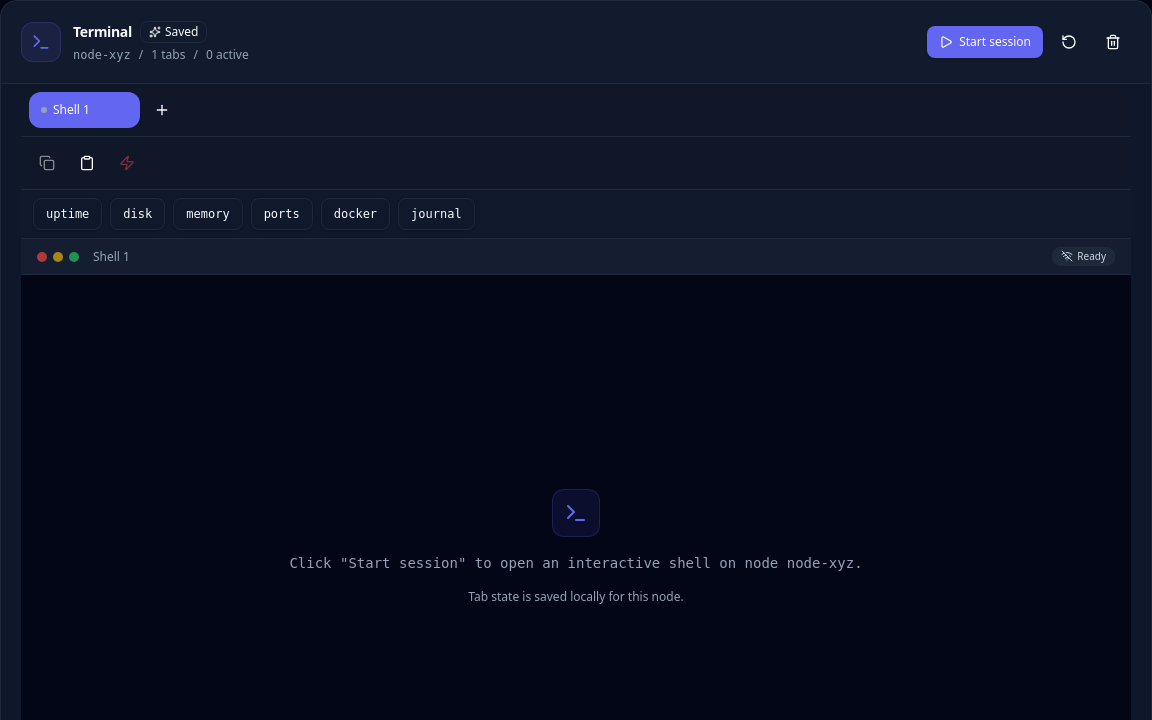
NodeTerminal › clicking End session removes the xterm container
Click the button "Start session": (985, 42) [927,26,1043,58]
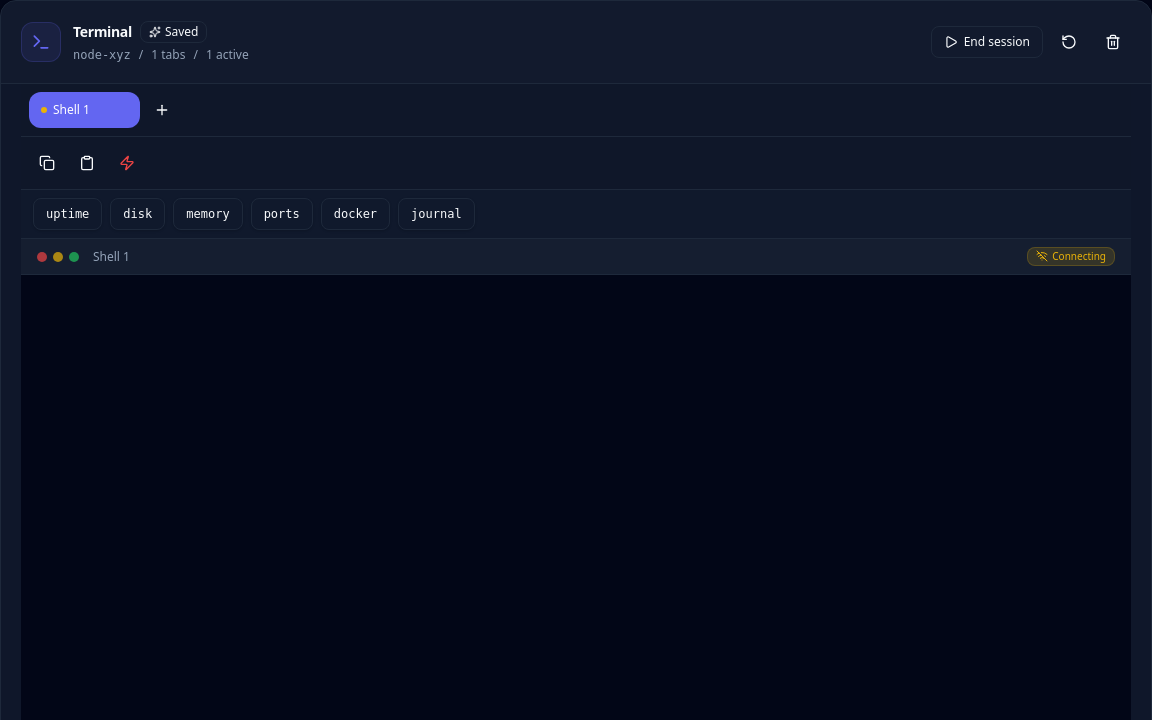
Click the button "End session": (987, 42) [931,26,1043,58]
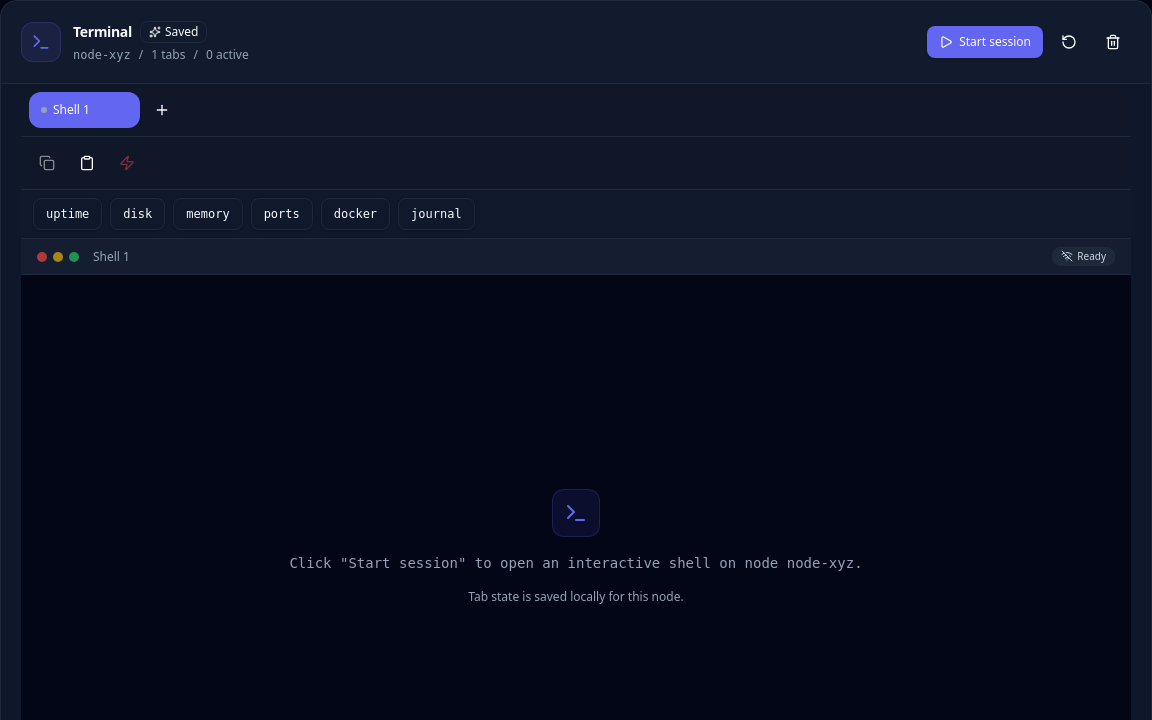
Expected: the button "Start session" is shown, [927,26,1043,58]
